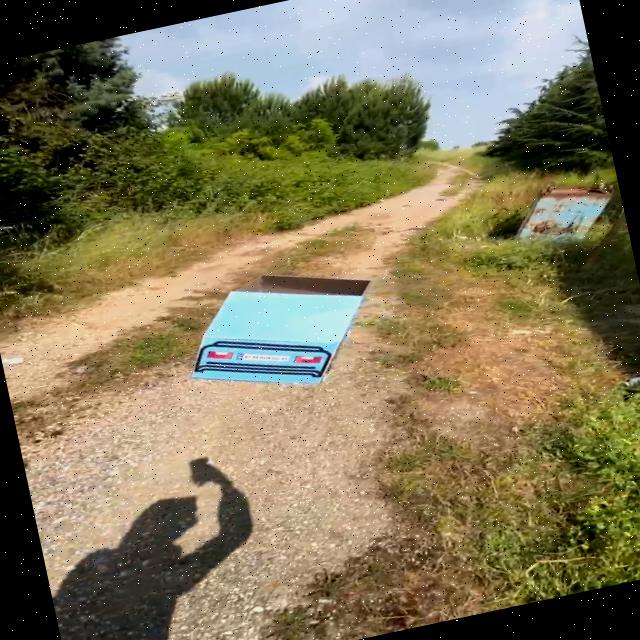blue_car: (161, 241, 409, 424)
